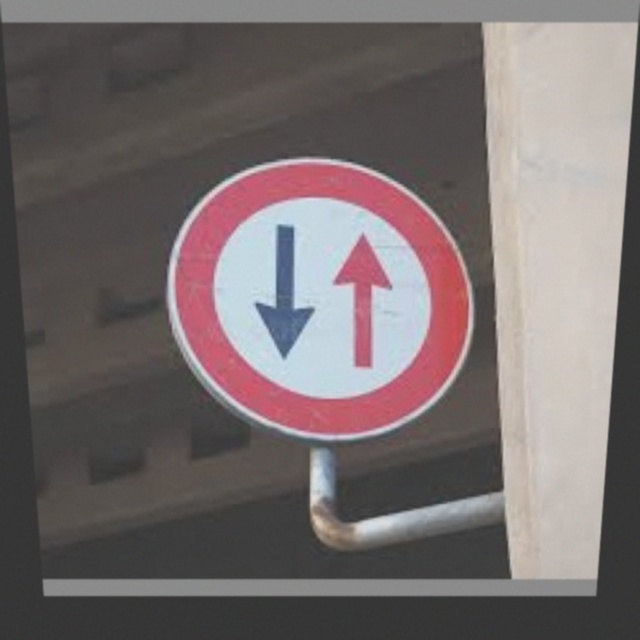Mandatory_Two_Way_Traffic: (164, 160, 496, 432)
